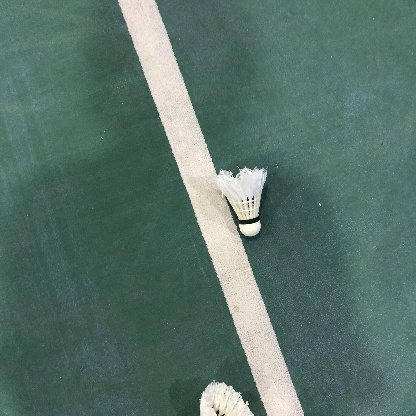ball_single: (216, 168, 267, 237), (200, 381, 254, 416)
